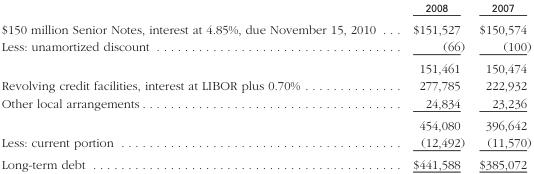table: (0, 1, 530, 170)
table column: (0, 1, 393, 170), (393, 1, 471, 170), (471, 1, 530, 170)
table column header: (0, 1, 530, 17)
table row: (0, 17, 530, 37), (0, 37, 530, 57), (0, 94, 530, 114), (0, 133, 530, 153), (0, 57, 530, 76), (0, 114, 530, 133), (0, 76, 530, 94), (0, 153, 530, 170), (0, 1, 530, 17)
